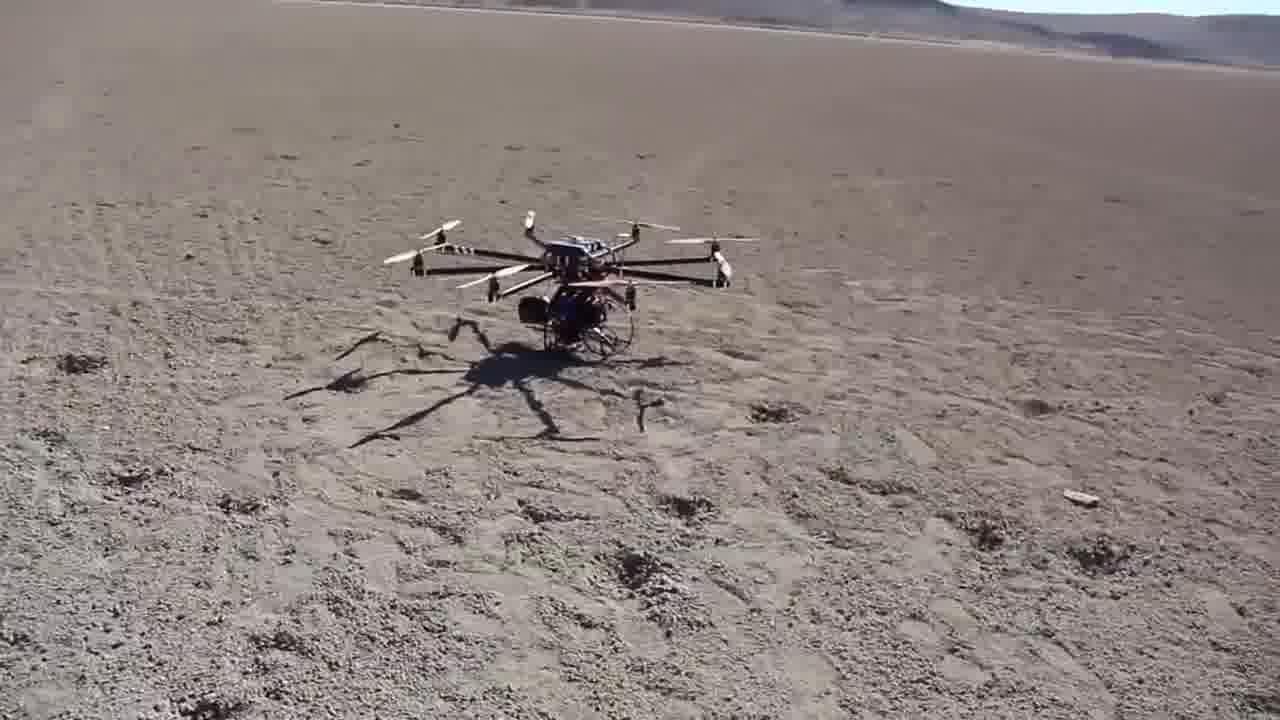drone: (381, 195, 746, 360)
